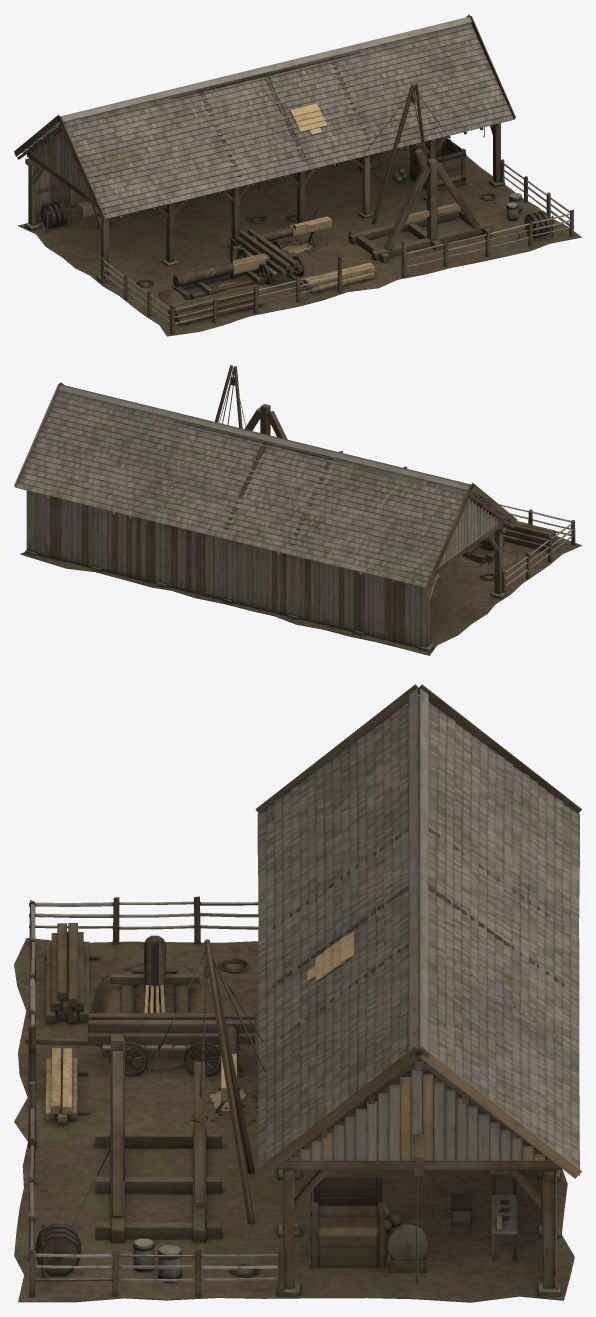
Rendered from siege_workshop.glb.
3 renders of one model, top to bottom at view 1: azimuth 30°, elevation 25°; view 2: azimuth 150°, elevation 25°; view 3: azimuth 270°, elevation 25°, orthographic. The views are drawn at different scales.
Parts seen in each view (by area): view 1: siege_workshop_LOD0; view 2: siege_workshop_LOD0; view 3: siege_workshop_LOD0.
Part boxes in pixels (x1,y1,x2,y2): siege_workshop_LOD0: (14, 14, 581, 336); siege_workshop_LOD0: (14, 365, 581, 655); siege_workshop_LOD0: (14, 684, 581, 1302).
Size of what is drawn, in the model's own units: 24.19 by 7.69 by 15.28.
Materials: 1 (1 with a texture image).
